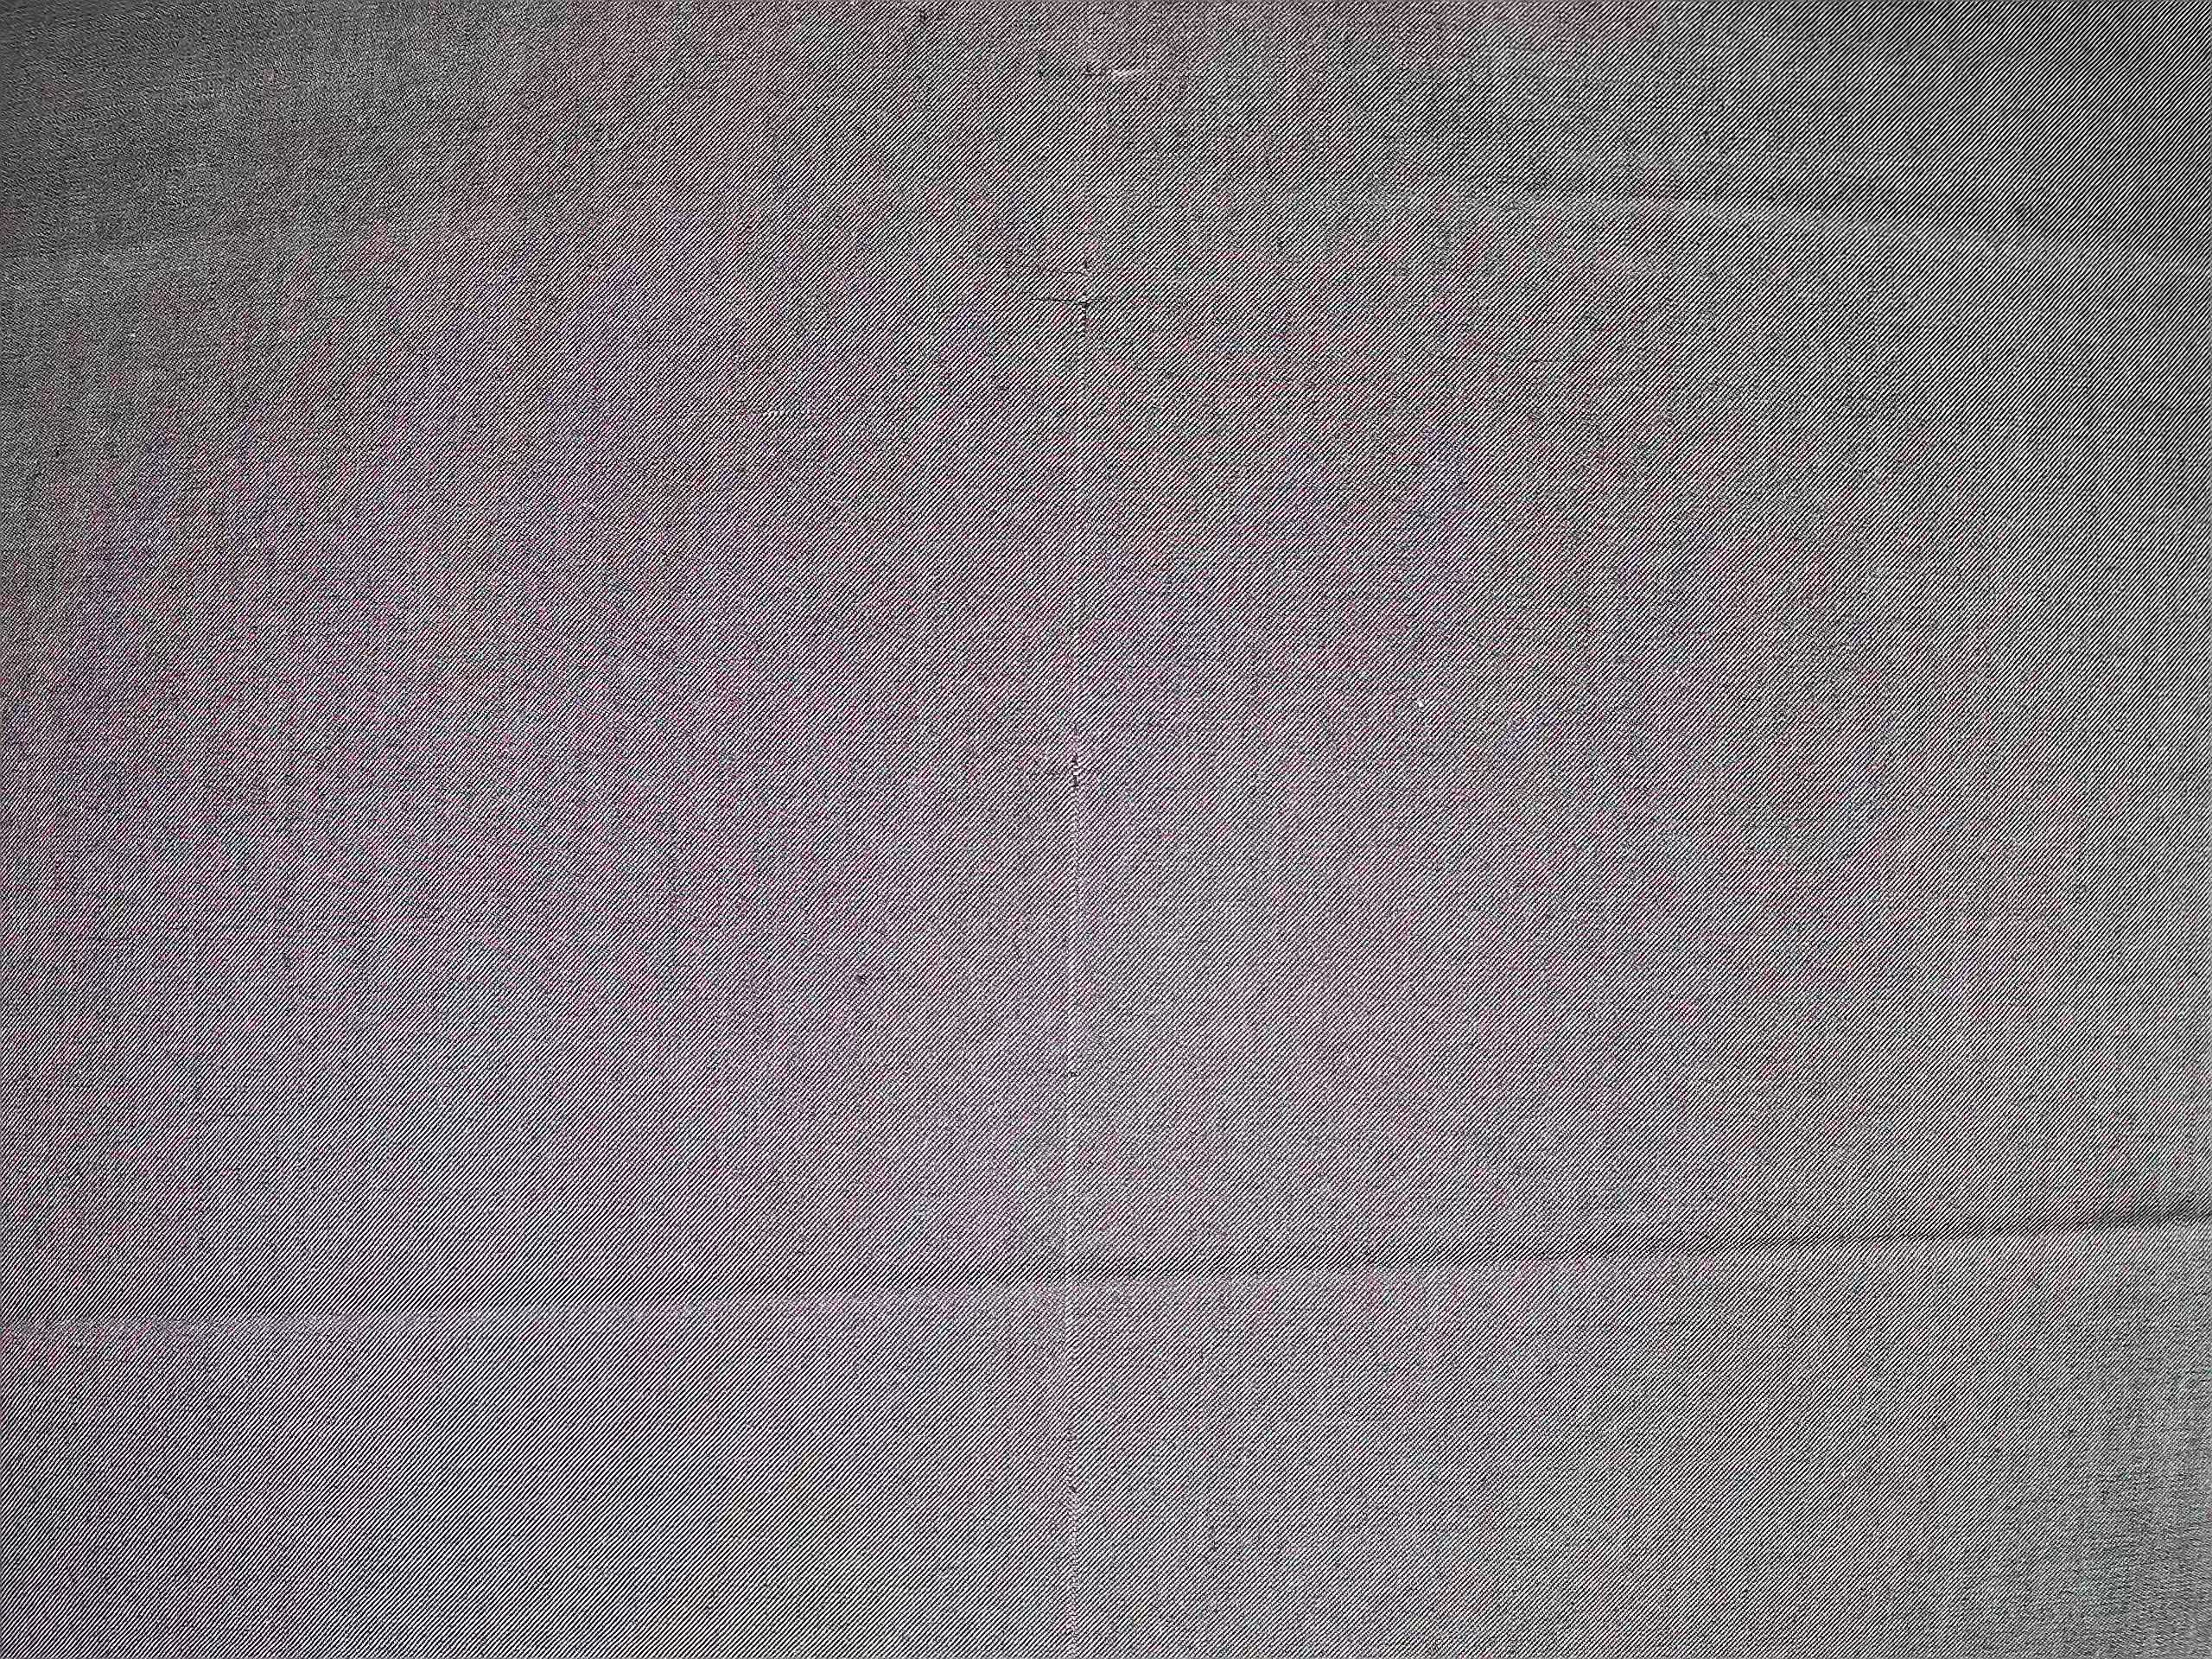hanging-warp: (1045, 277, 1130, 1368)
